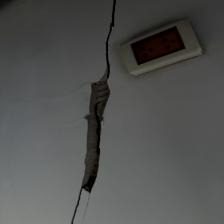Medium: (61, 66, 117, 222)
